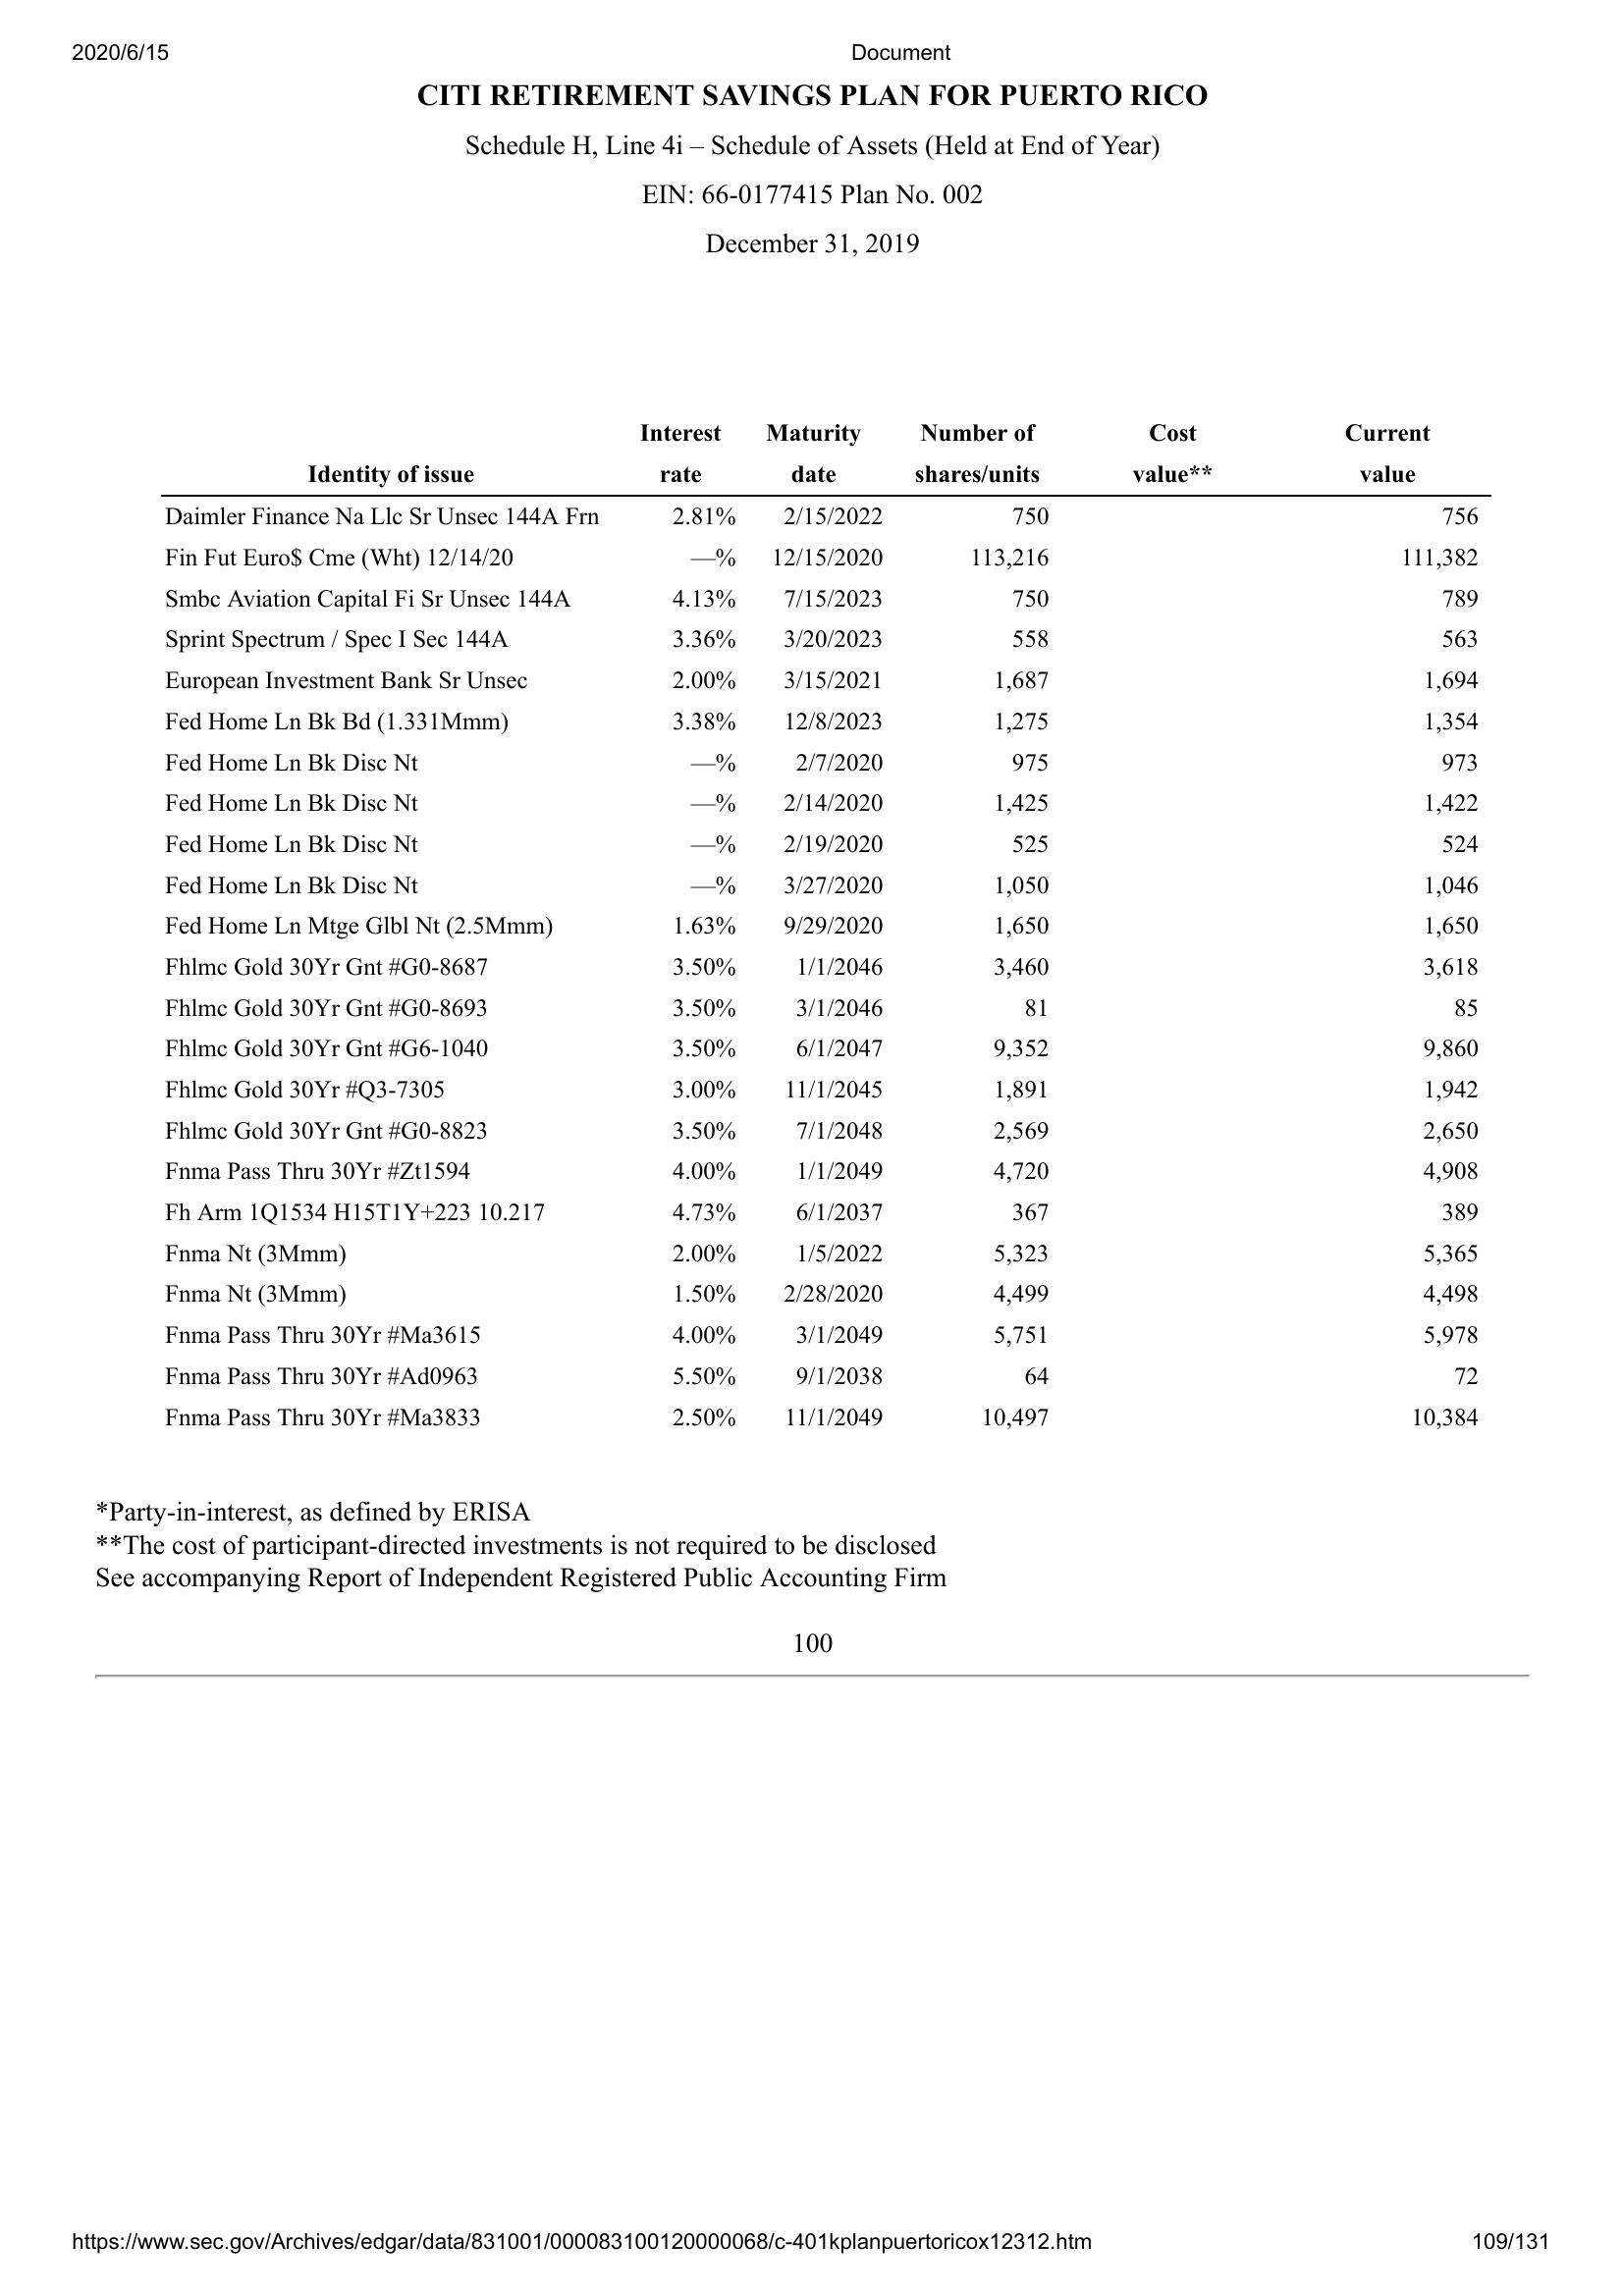table: (153, 420, 1495, 1436)
